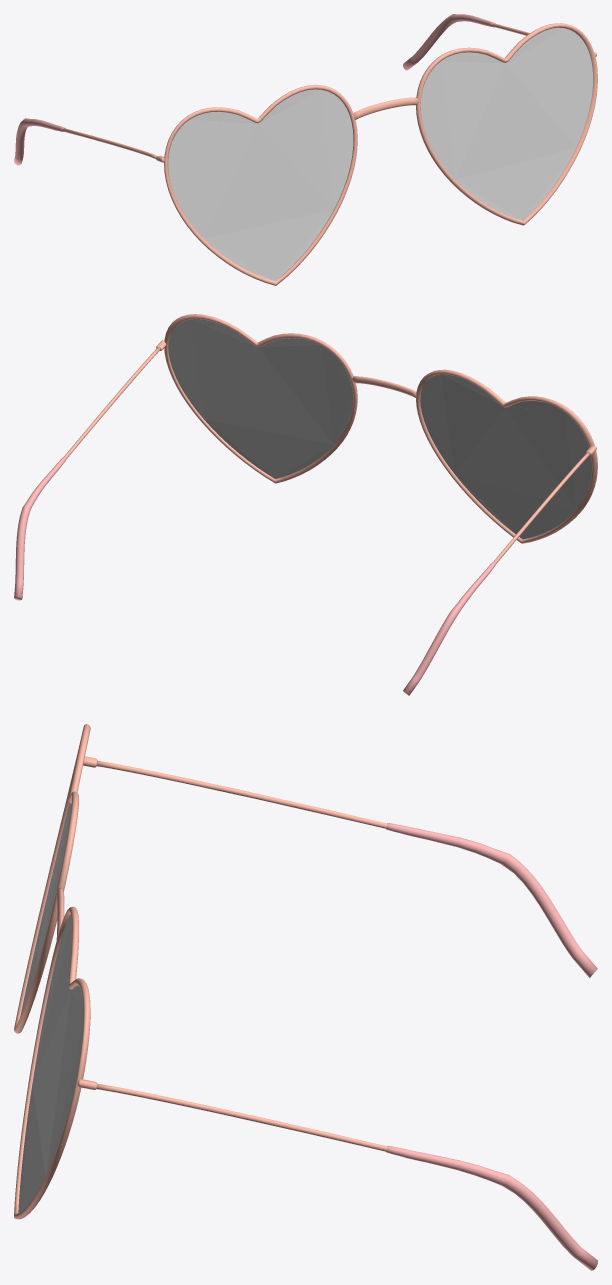
The model's file is heart-glasses.glb.
3 views of the same model, one above another, from view 1: azimuth 30°, elevation 25°; view 2: azimuth 150°, elevation 25°; view 3: azimuth 270°, elevation 25° (orthographic). The views are drawn at different scales.
Parts seen in each view (by area): view 1: Object_2, Object_0, Object_1, Object_3; view 2: Object_2, Object_0, Object_1, Object_3; view 3: Object_2, Object_0, Object_1, Object_3.
Part boxes in pixels (box(x1,y1,x2,y2)): Object_2: box(168, 28, 592, 280); Object_0: box(164, 23, 597, 285); Object_1: box(14, 14, 495, 165); Object_3: box(63, 23, 596, 162); Object_2: box(168, 319, 591, 539); Object_0: box(164, 314, 597, 543); Object_1: box(14, 457, 495, 695); Object_3: box(64, 340, 596, 563); Object_2: box(18, 802, 83, 1212); Object_0: box(14, 724, 90, 1219); Object_1: box(386, 823, 597, 1270); Object_3: box(77, 756, 387, 1151).
Bounding box in the file's own units: 0.145 × 0.0553 × 0.1093.
